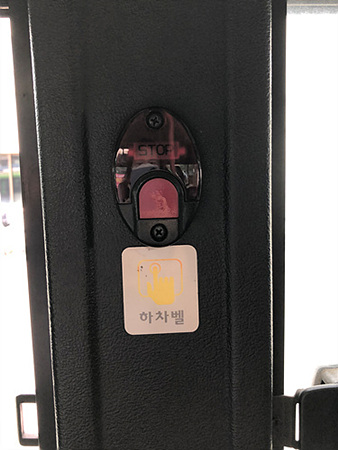bell: (112, 107, 206, 245)
